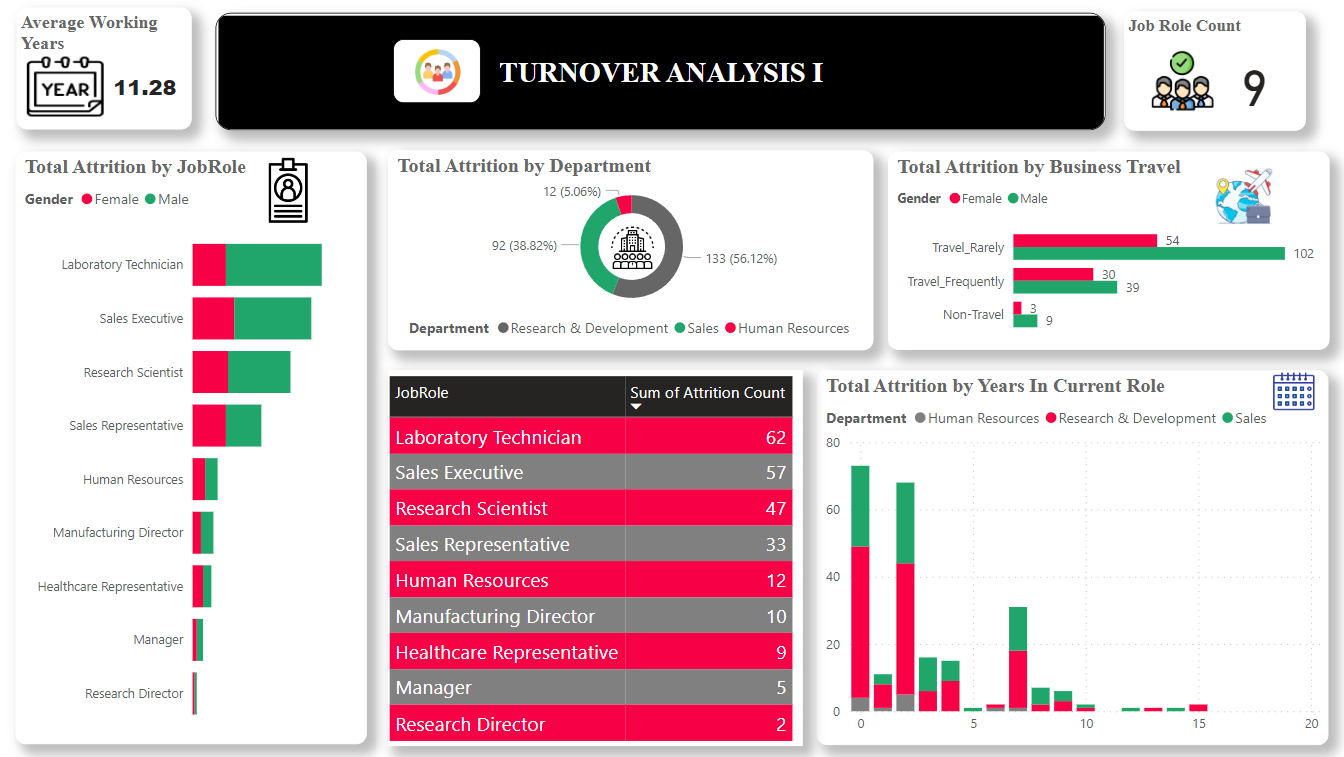

The page's visual inventory and layout, read from the dashboard file:
{"tool":"powerbi","page":{"name":"Page 3","canvas":[1280,720],"ordinal":2},"visuals":[{"type":"shape","title":"DAS","box":[205.7,12.9,842.9,111.4],"z":0},{"type":"shape","title":"Shape2","box":[1066.7,11.8,171.6,112.4],"z":1000},{"type":"shape","title":"Shape1","box":[17.8,8.9,165.7,115.4],"z":2000},{"type":"barChart","title":"Total Attrition by JobRole","fields":{"Category":["HR-Employee-Attrition.JobRole"],"Y":["Sum(HR-Employee-Attrition.Attrition Count)"],"Series":["HR-Employee-Attrition.Gender"]},"box":[17.1,144.3,332.9,561.4],"z":3000},{"type":"donutChart","title":"Total Attrition by Department","fields":{"Category":["HR-Employee-Attrition.Department"],"Y":["Sum(HR-Employee-Attrition.Attrition Count)"]},"box":[369.9,143.5,460.1,189.4],"z":4000},{"type":"clusteredBarChart","title":"Total Attrition by Business Travel","fields":{"Category":["HR-Employee-Attrition.BusinessTravel"],"Y":["Sum(HR-Employee-Attrition.Attrition Count)"],"Series":["HR-Employee-Attrition.Gender"]},"box":[843.3,145,418.7,187.9],"z":5000},{"type":"columnChart","title":"Total Attrition by Years In Current Role","fields":{"Category":["HR-Employee-Attrition.YearsInCurrentRole"],"Y":["Sum(HR-Employee-Attrition.Attrition Count)"],"Series":["HR-Employee-Attrition.Department"]},"box":[776.2,351.2,485,355],"z":6000},{"type":"tableEx","fields":{"Values":["HR-Employee-Attrition.JobRole","Sum(HR-Employee-Attrition.Attrition Count)"]},"box":[370,351.2,392.5,356.2],"z":7000},{"type":"card","fields":{"Values":["Avg(HR-Employee-Attrition.TotalWorkingYears)"]},"box":[65.1,42.9,133.1,69.5],"z":8000},{"type":"image","box":[22.2,50.3,82.8,66.6],"z":9000},{"type":"card","fields":{"Values":["Count(HR-Employee-Attrition.JobRole)"]},"box":[1159.9,45.9,62.1,65.1],"z":10000},{"type":"image","box":[1088.9,42.9,68.1,69.5],"z":11000},{"type":"image","box":[233.7,145,82.8,74],"z":12000},{"type":"image","box":[575.5,201.2,51.8,69.5],"z":13000},{"type":"image","box":[1139.2,155.3,82.8,63.6],"z":14000},{"type":"image","box":[1195.4,343.2,65.1,54.7],"z":15000},{"type":"image","box":[374.3,38.5,82.8,60.7],"z":16000}]}

Visuals, with their boxes in screenshot pixels (x1, y1, x2, y2), scaled from the page's 1280x720 canvas onto the 1344x757 screenshot:
"DAS" shape: x1=216 y1=14 x2=1101 y2=131
"Shape2" shape: x1=1120 y1=12 x2=1300 y2=131
"Shape1" shape: x1=19 y1=9 x2=193 y2=131
"Total Attrition by JobRole" barChart: x1=18 y1=152 x2=368 y2=742
"Total Attrition by Department" donutChart: x1=388 y1=151 x2=872 y2=350
"Total Attrition by Business Travel" clusteredBarChart: x1=885 y1=152 x2=1325 y2=350
"Total Attrition by Years In Current Role" columnChart: x1=815 y1=369 x2=1324 y2=742
tableEx - HR-Employee-Attrition.JobRole x Sum(HR-Employee-Attrition.Attrition Count): x1=388 y1=369 x2=801 y2=744
card - Avg(HR-Employee-Attrition.TotalWorkingYears): x1=68 y1=45 x2=208 y2=118
image: x1=23 y1=53 x2=110 y2=123
card - Count(HR-Employee-Attrition.JobRole): x1=1218 y1=48 x2=1283 y2=117
image: x1=1143 y1=45 x2=1215 y2=118
image: x1=245 y1=152 x2=332 y2=230
image: x1=604 y1=212 x2=659 y2=285
image: x1=1196 y1=163 x2=1283 y2=230
image: x1=1255 y1=361 x2=1324 y2=418
image: x1=393 y1=40 x2=480 y2=104
